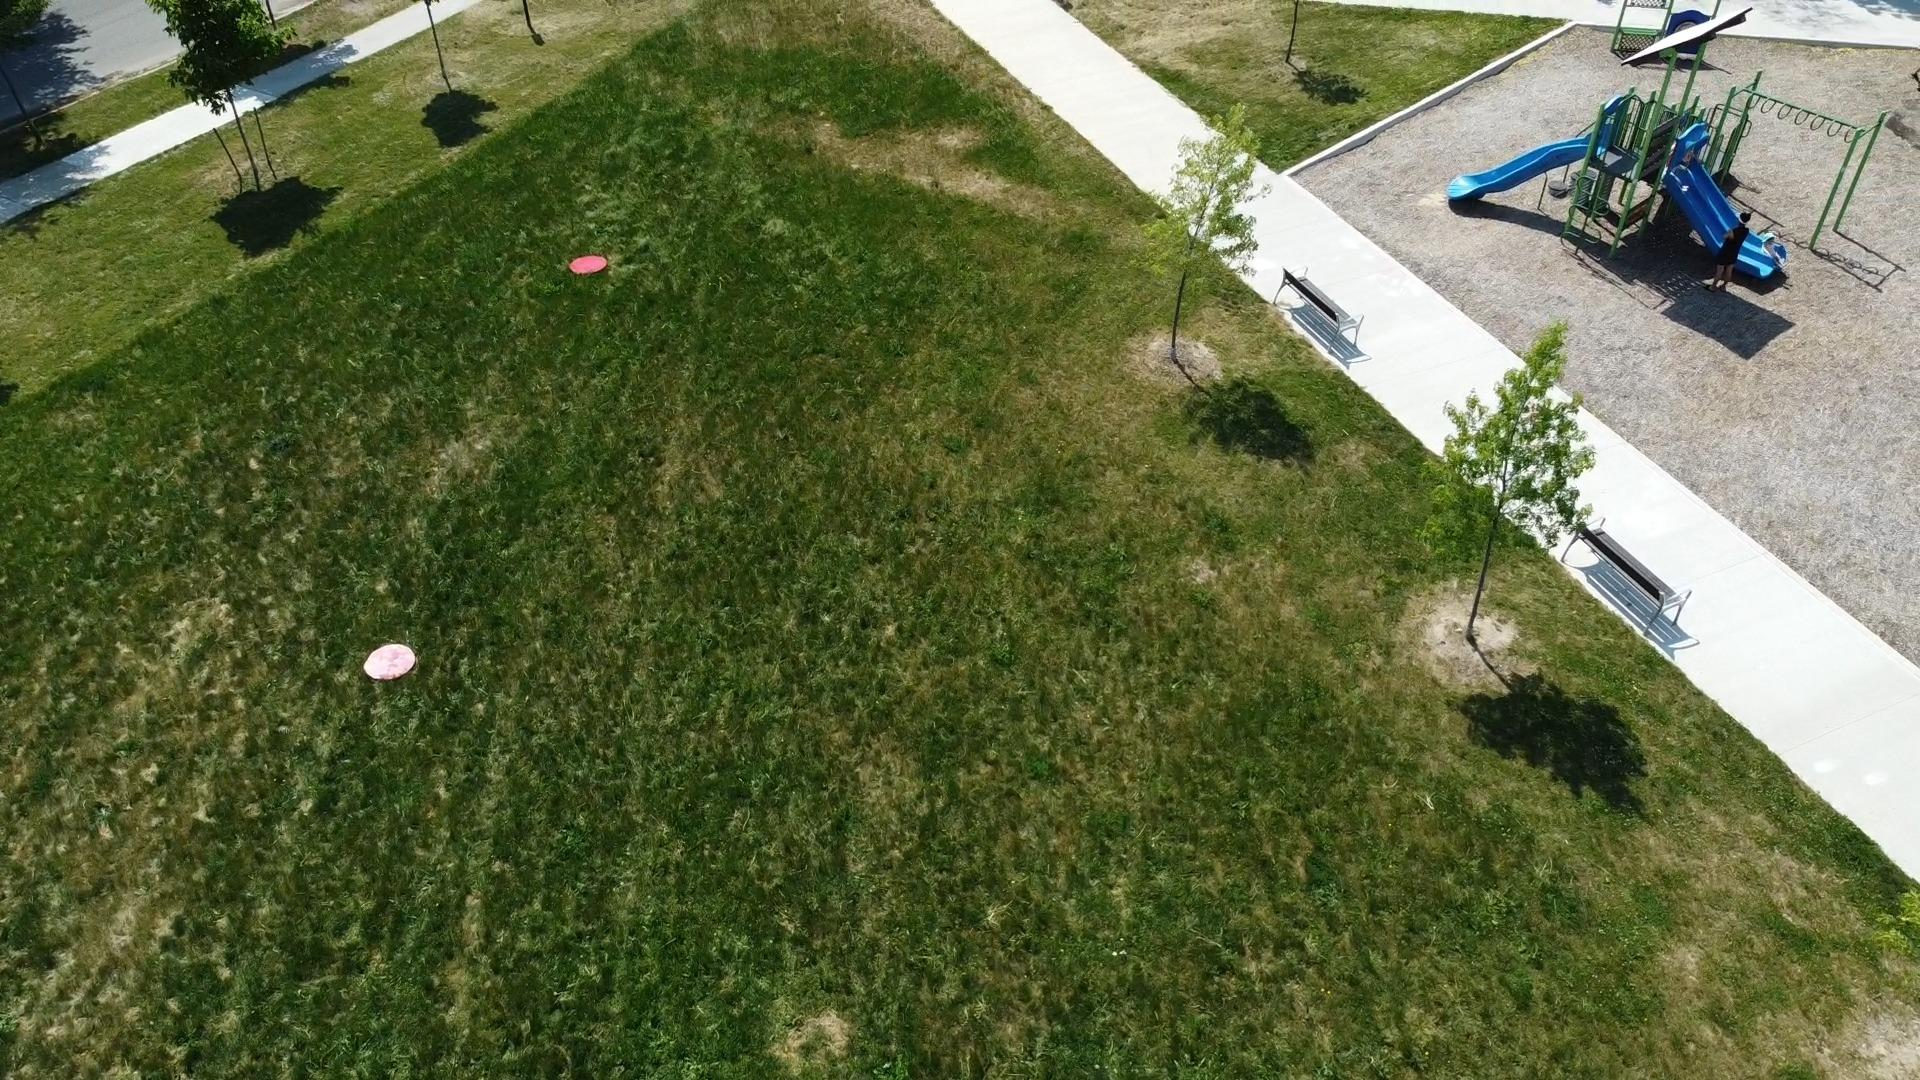Red: (568, 253, 608, 276)
Unknown: (363, 642, 418, 682)
